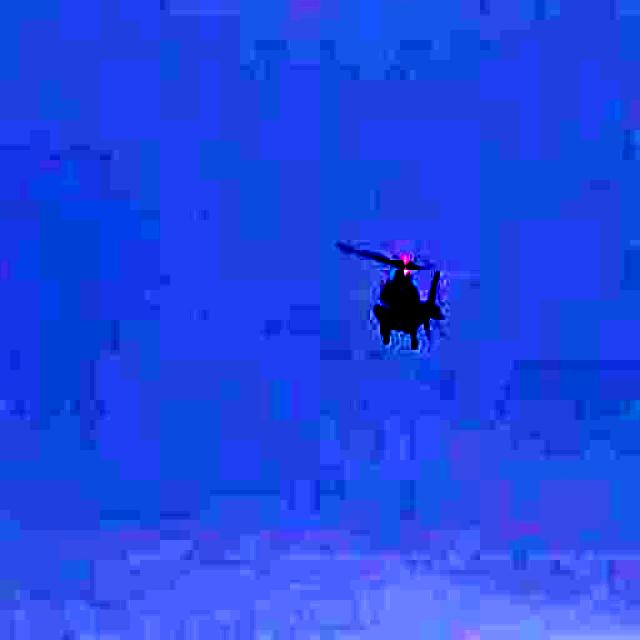drone: (306, 218, 486, 366)
